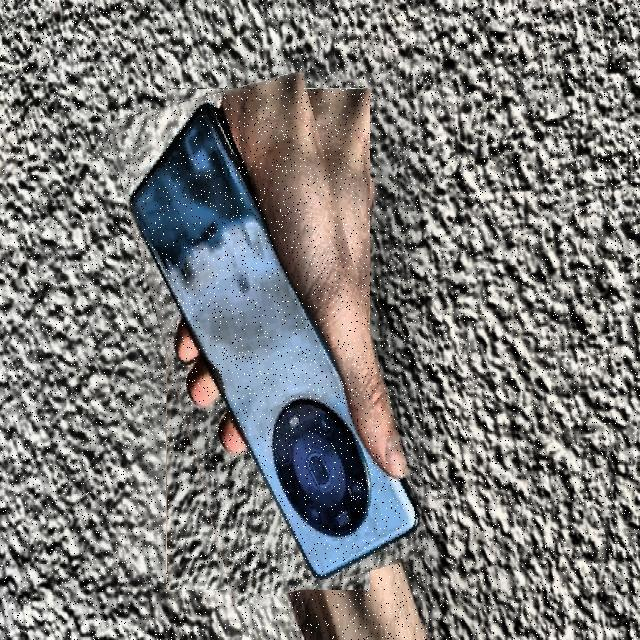Phone: (136, 80, 400, 598)
